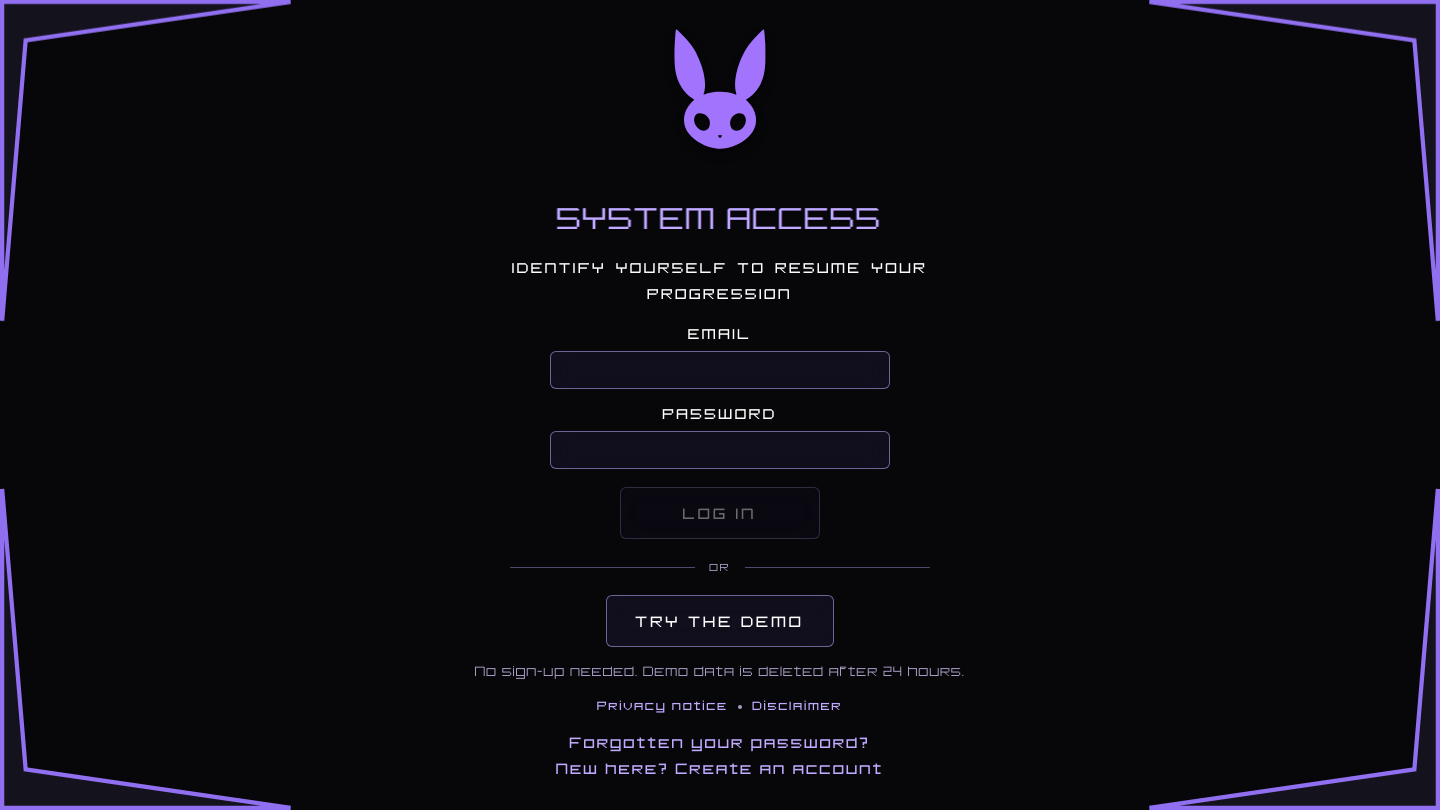
Scenario: the login page › does the same for logging in, retrying with the same details
The image size is (1440, 810).
Later steps or results of the test are not shown.
In the field with id "login-email": (720,370) [550, 351, 890, 389], type "player@example.com"
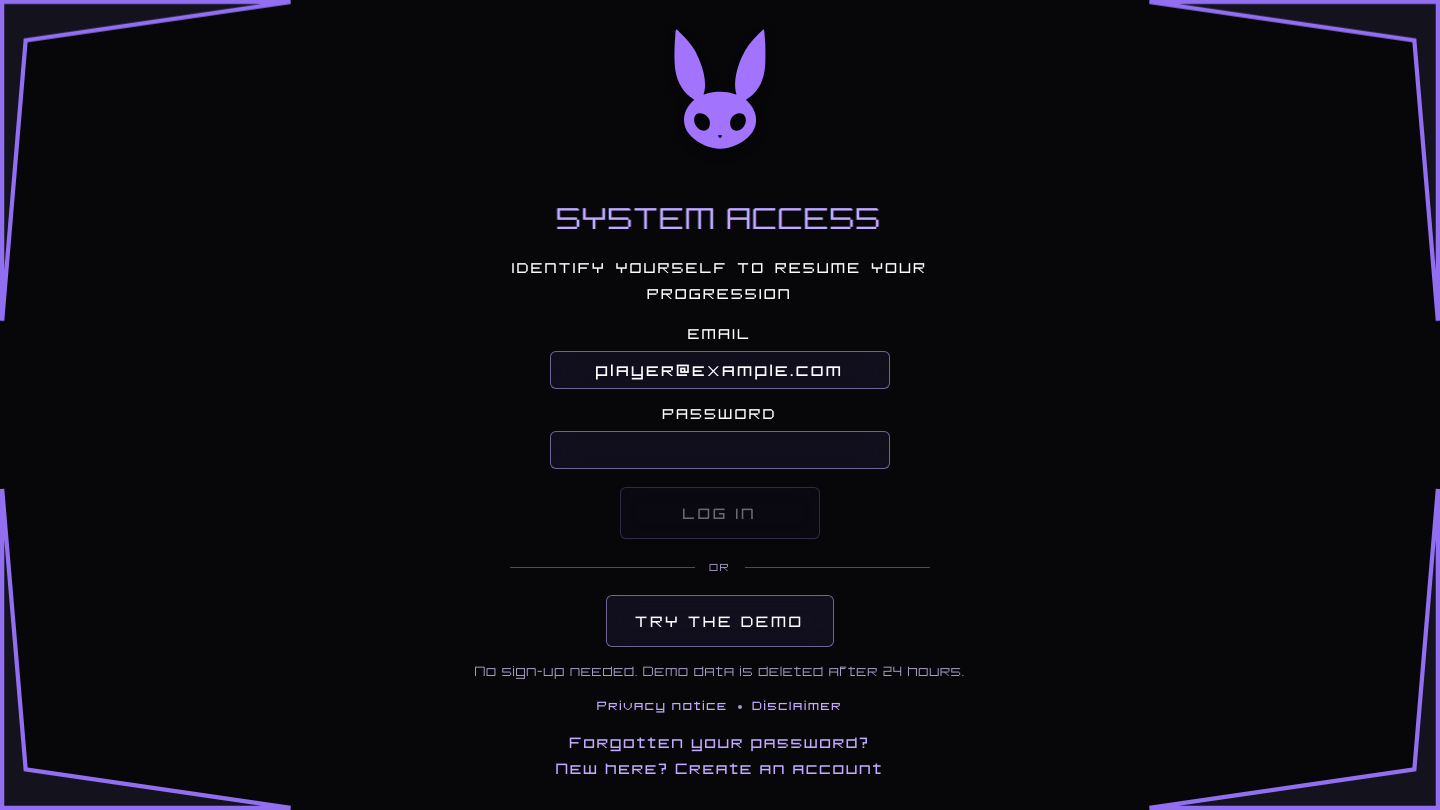
In the password field with id "login-password": (720,450) [550, 431, 890, 469], type "secret-password"
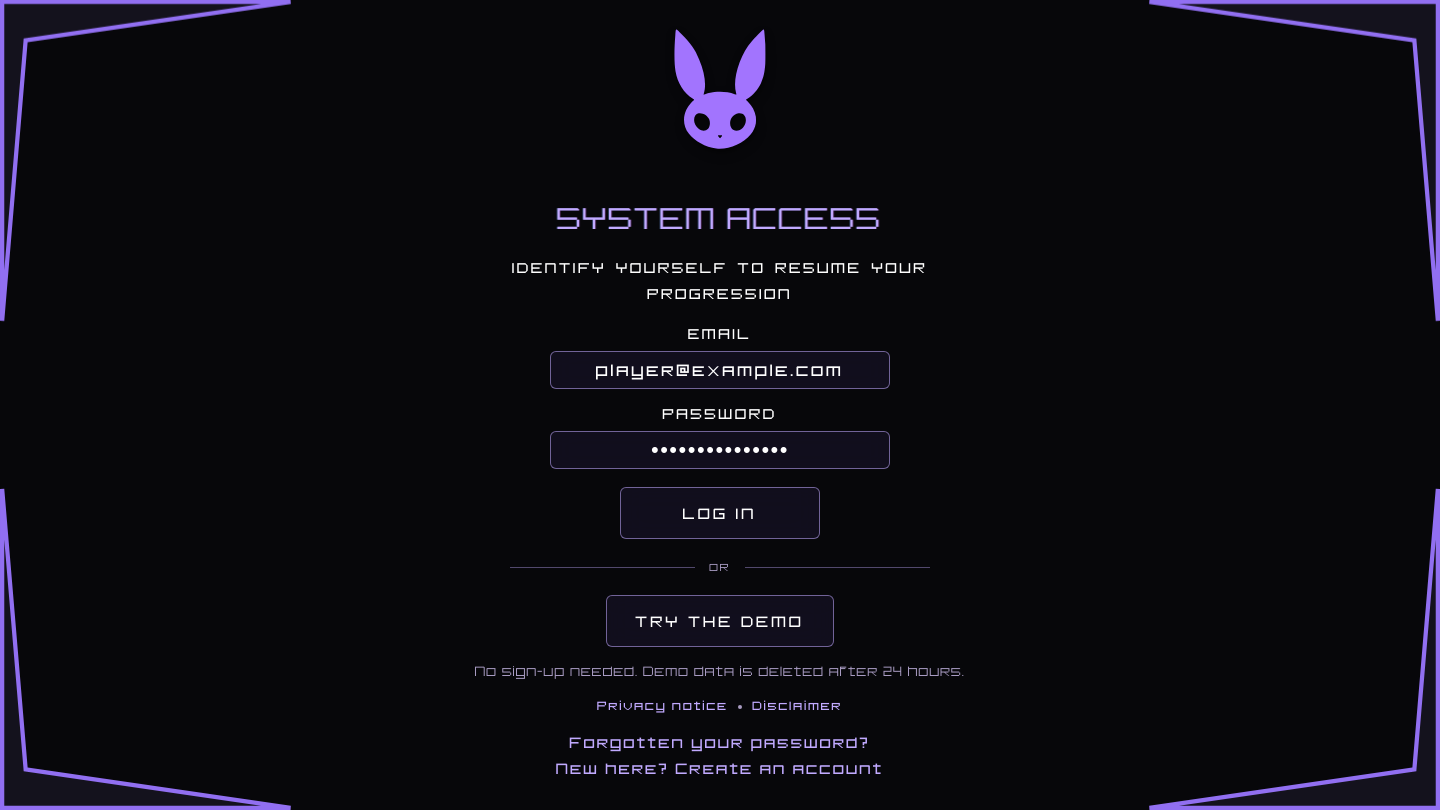
Click the button "Log in": (720,513) [620, 487, 820, 539]
Wait 2000 ms
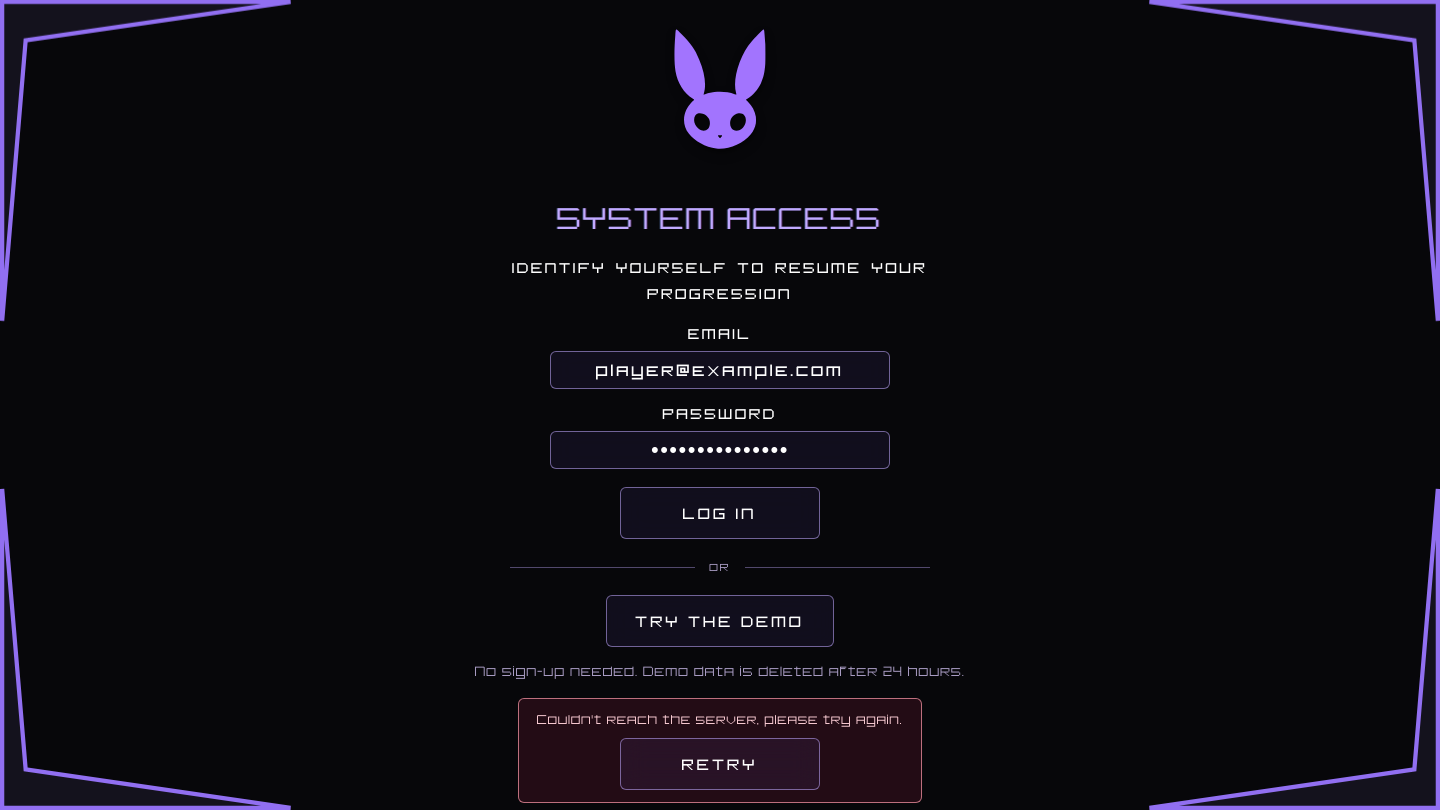
Expected: the button "Retry" is shown
Click the button "Retry": (720,764) [620, 738, 820, 790]
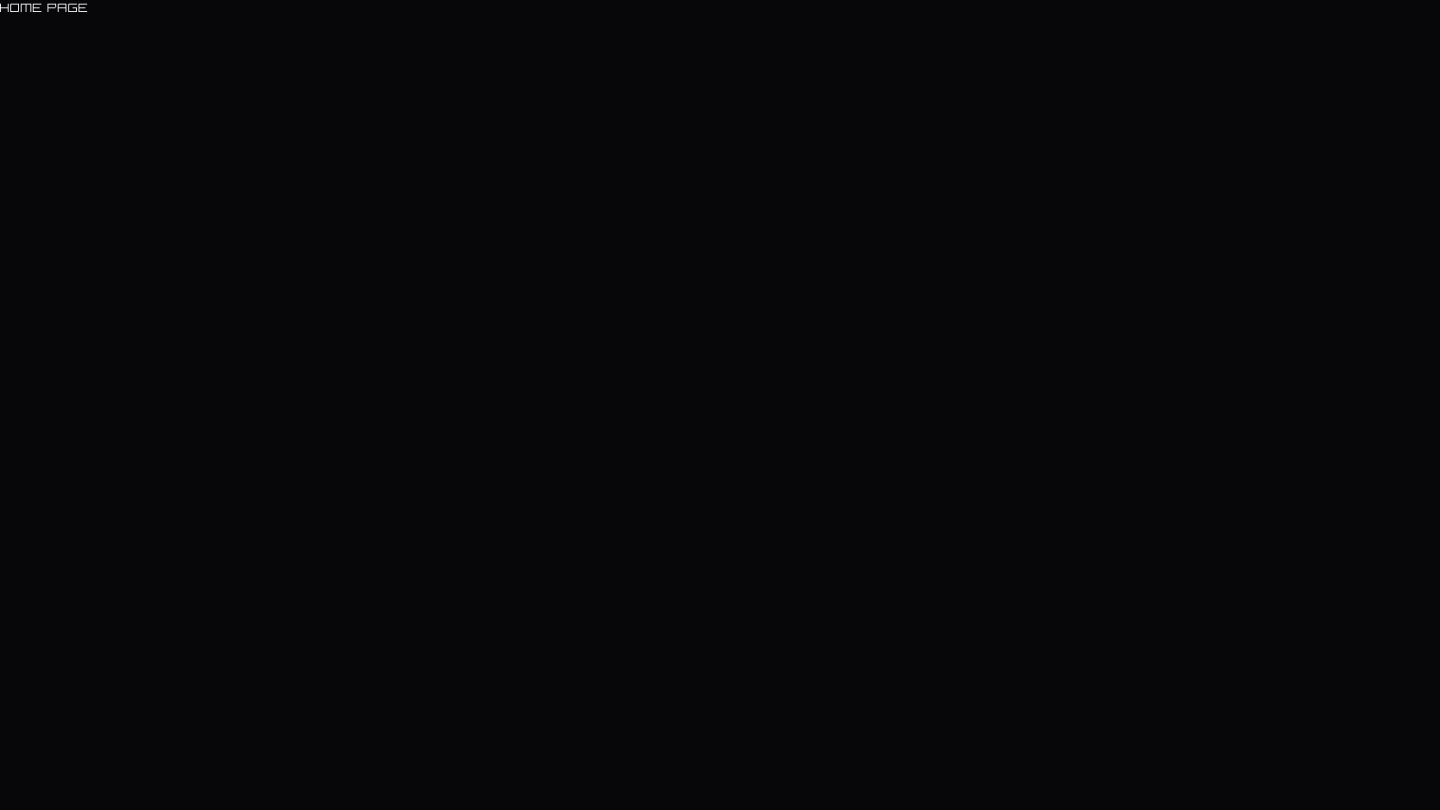
Expected: the text "HOME PAGE" is shown, [0, 0, 89, 16]
